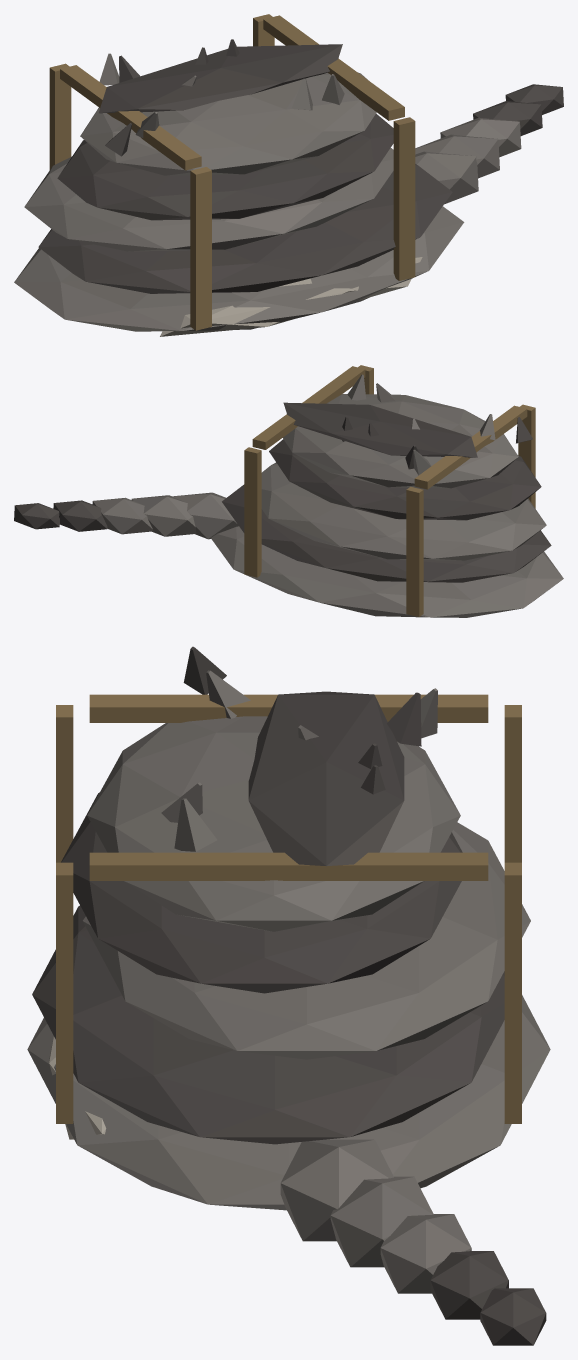
Rendered from obj_wolf_pelt.glb.
The picture shows the model from 3 angles, top to bottom: view 1: azimuth 30°, elevation 25°; view 2: azimuth 150°, elevation 25°; view 3: azimuth 270°, elevation 25°; orthographic projection. The views are drawn at different scales.
Parts seen in each view (by area): view 1: obj_wolf_pelt; view 2: obj_wolf_pelt; view 3: obj_wolf_pelt.
Boxes of the visible parts, x1,y1,x2,y2 form: obj_wolf_pelt: (14,14,563,336); obj_wolf_pelt: (14,365,563,617); obj_wolf_pelt: (27,646,550,1345).
Size of the model in its own units: 0.8765 by 0.3025 by 0.42.
